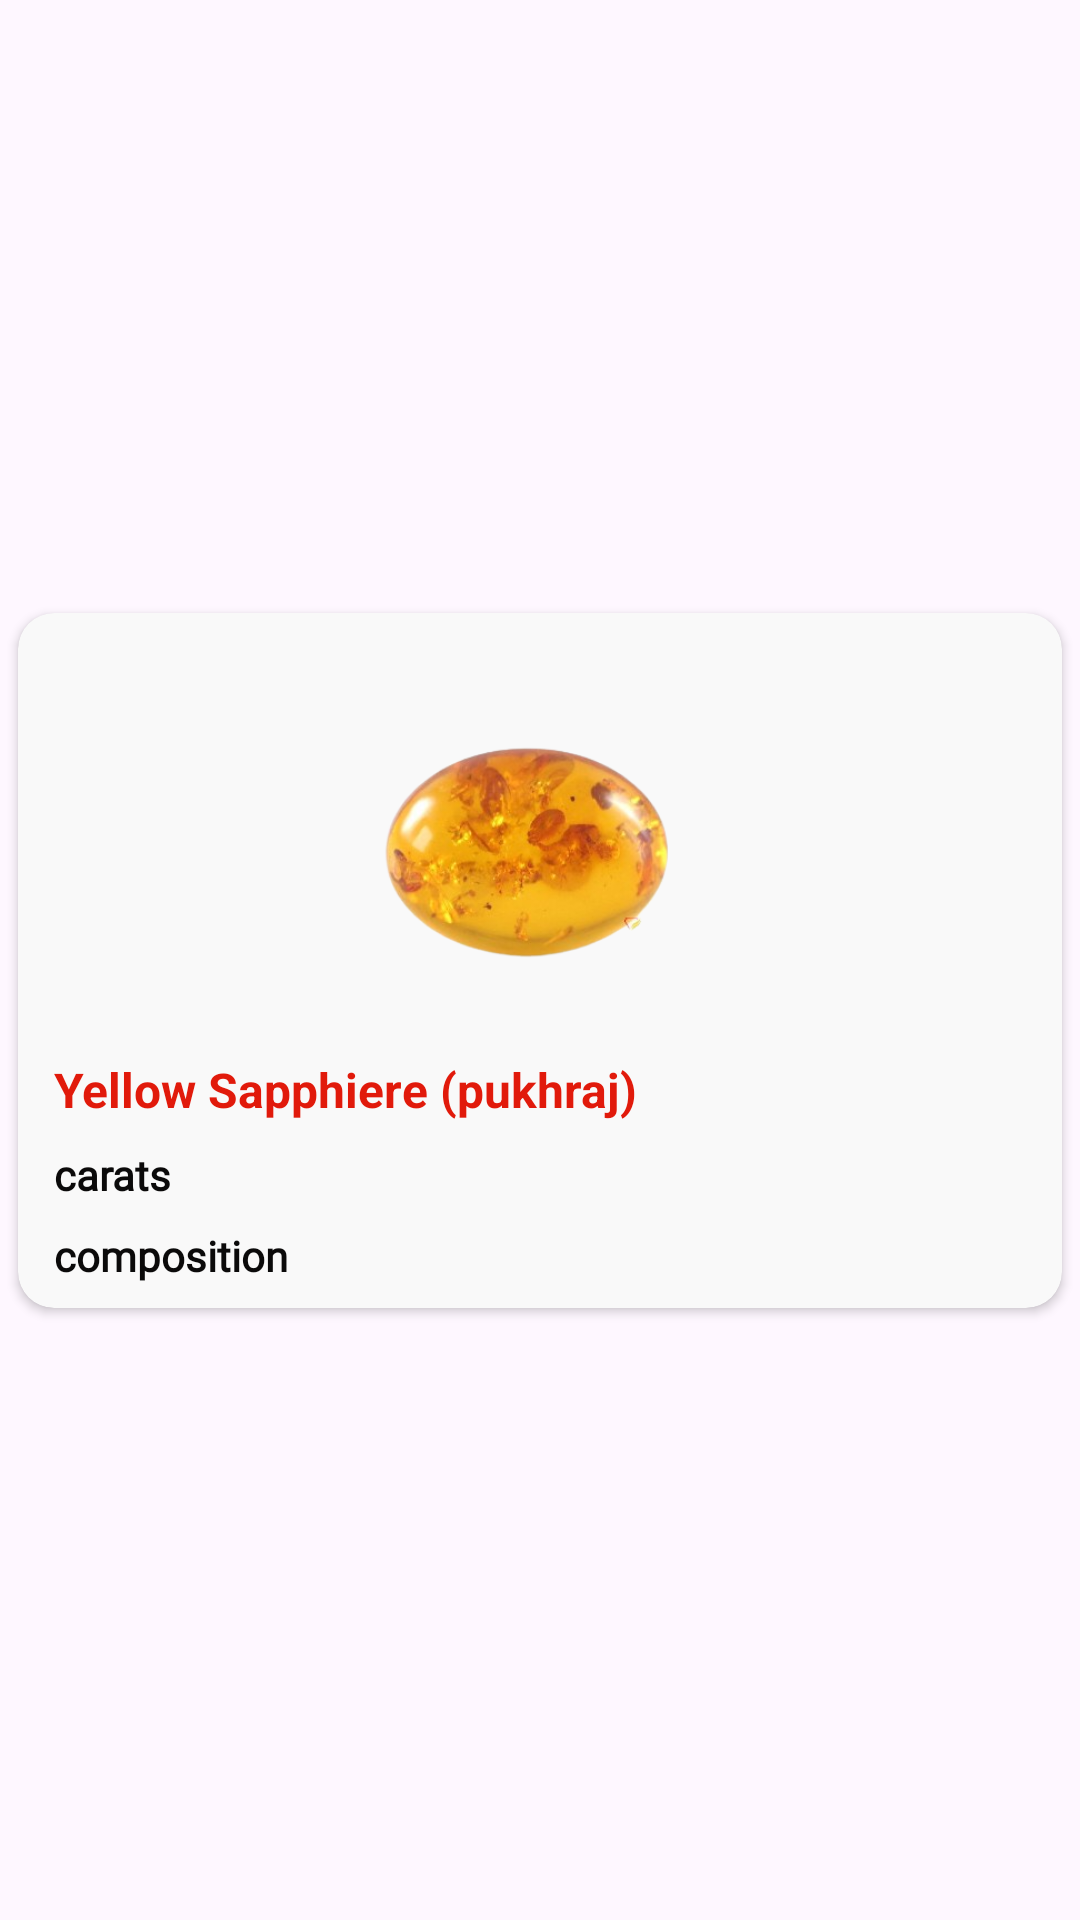

Icons on this 1080 x 1920 Android screen, each with the point to tap as point (x, y):
amber: point (527, 852)
